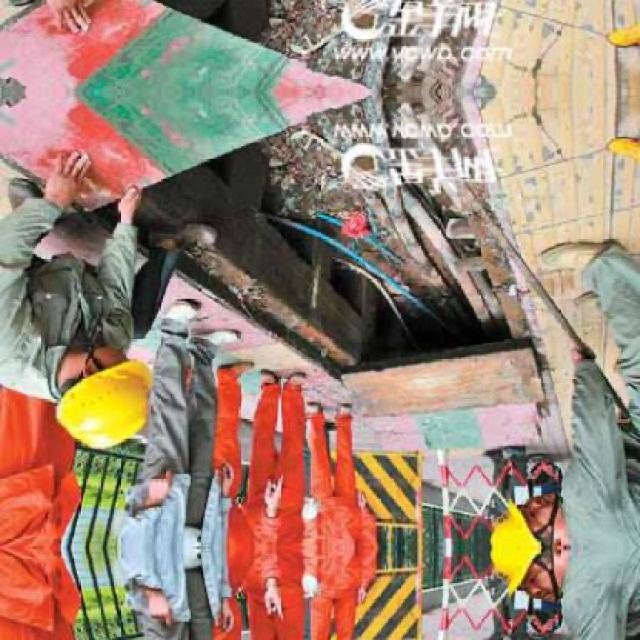con casco: (14, 336, 165, 458), (491, 481, 590, 547)
